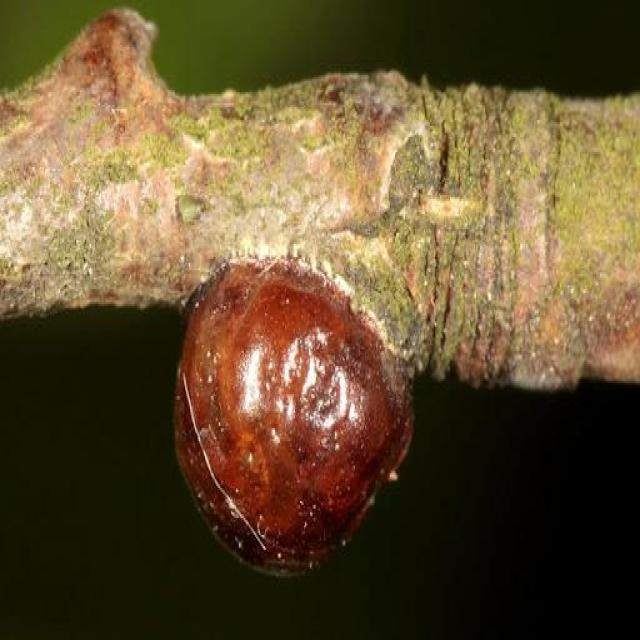BlackScale: (175, 256, 414, 568)
